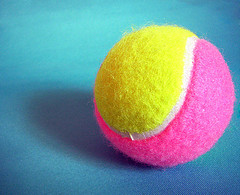tennis ball: (90, 22, 236, 172)
